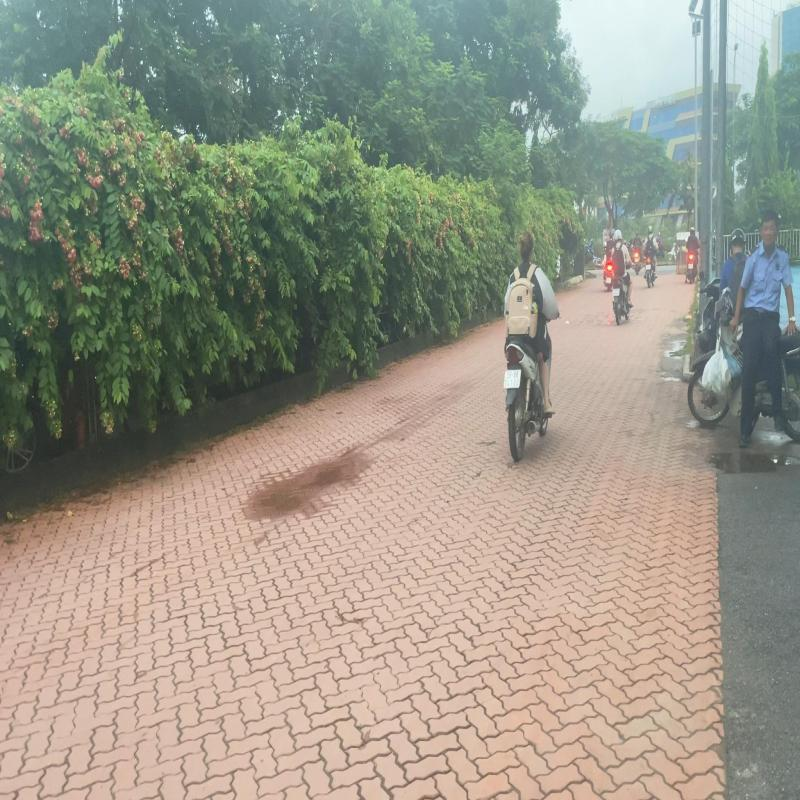licenseplate: (504, 369, 520, 388)
motorcyclist: (501, 228, 562, 466)
nohelmet: (519, 231, 534, 259)
